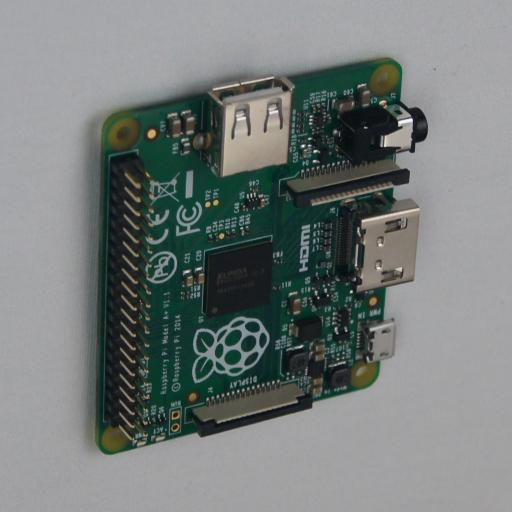Raspberry Pi A-: (87, 58, 428, 454)
